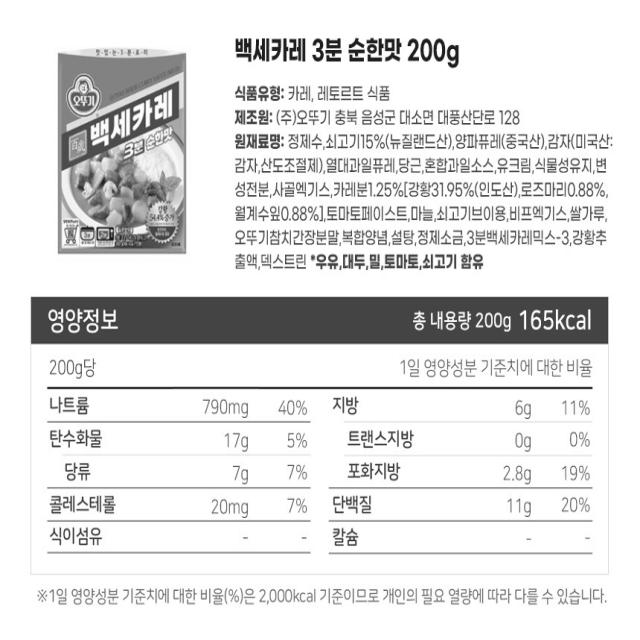Nutrition Label: (22, 290, 612, 625)
